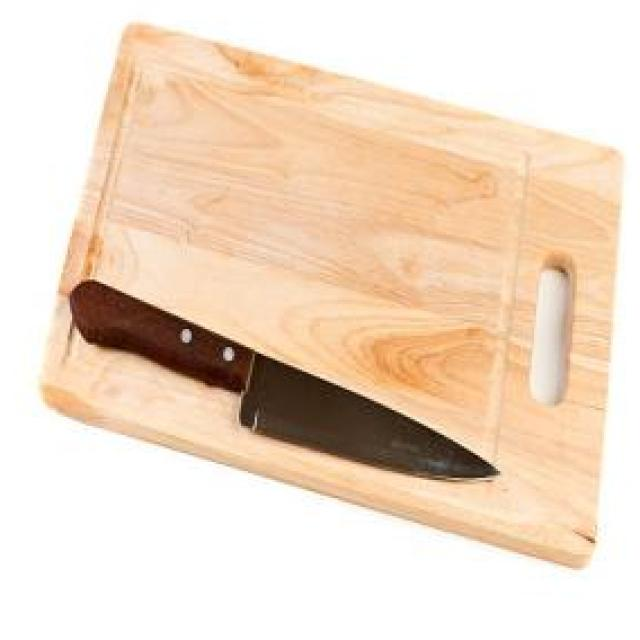knife: (65, 277, 505, 497)
